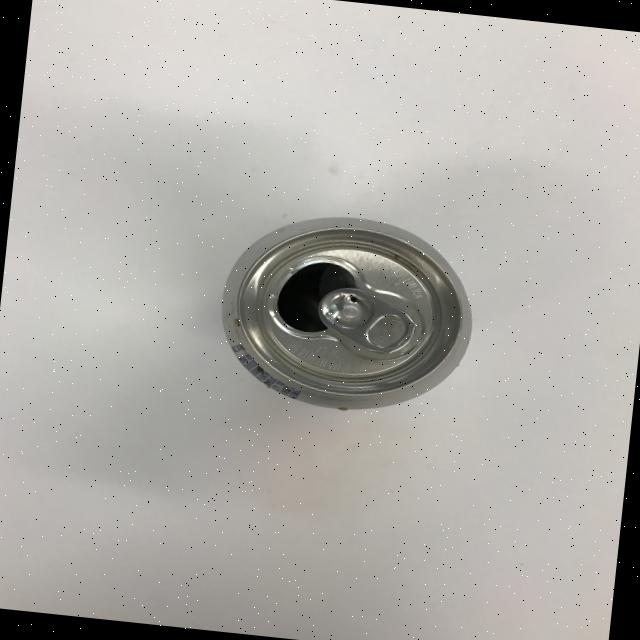metal: (210, 202, 482, 422)
